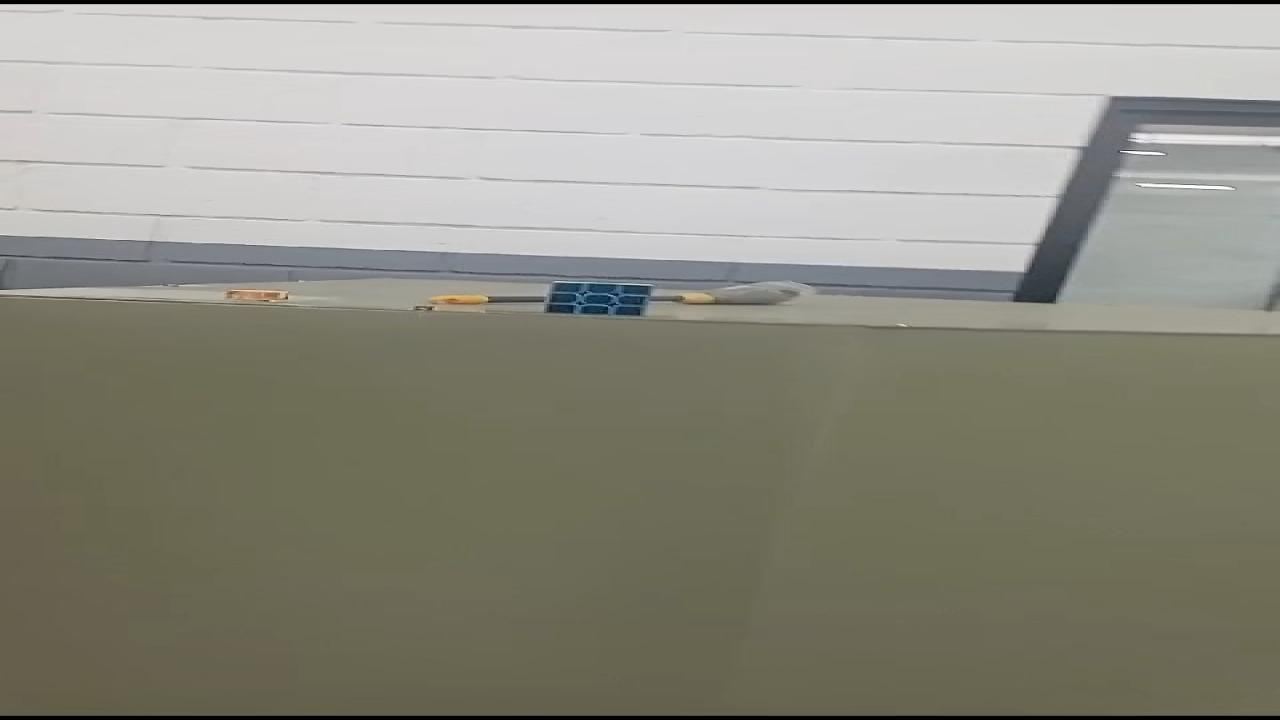Cube: (537, 280, 660, 318)
